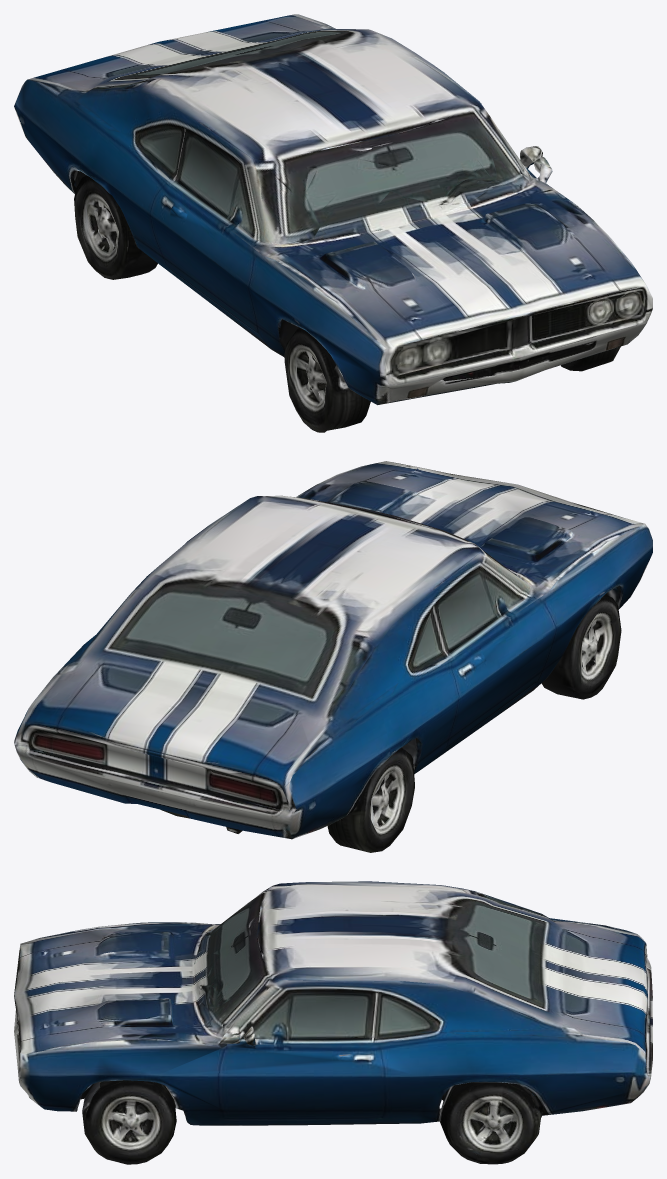
Rendered from chevelle_70.glb.
The picture shows the model from 3 angles, top to bottom: view 1: azimuth 30°, elevation 25°; view 2: azimuth 150°, elevation 25°; view 3: azimuth 270°, elevation 25°; orthographic projection. The views are drawn at different scales.
Parts seen in each view (by area): view 1: textured; view 2: textured; view 3: textured.
Boxes of the visible parts, left/top/right/bottom form: textured: left=14, top=14, right=652, bottom=432; textured: left=14, top=461, right=652, bottom=852; textured: left=14, top=881, right=652, bottom=1164.
Size of the model in its own units: 0.99 by 0.6271 by 1.99.
Materials: 1 (1 with a texture image).
